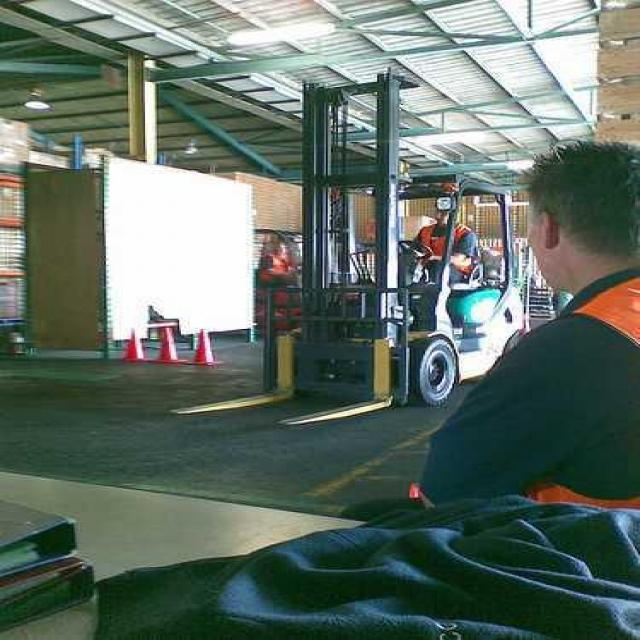Chariot elevateur: (169, 73, 527, 429)
